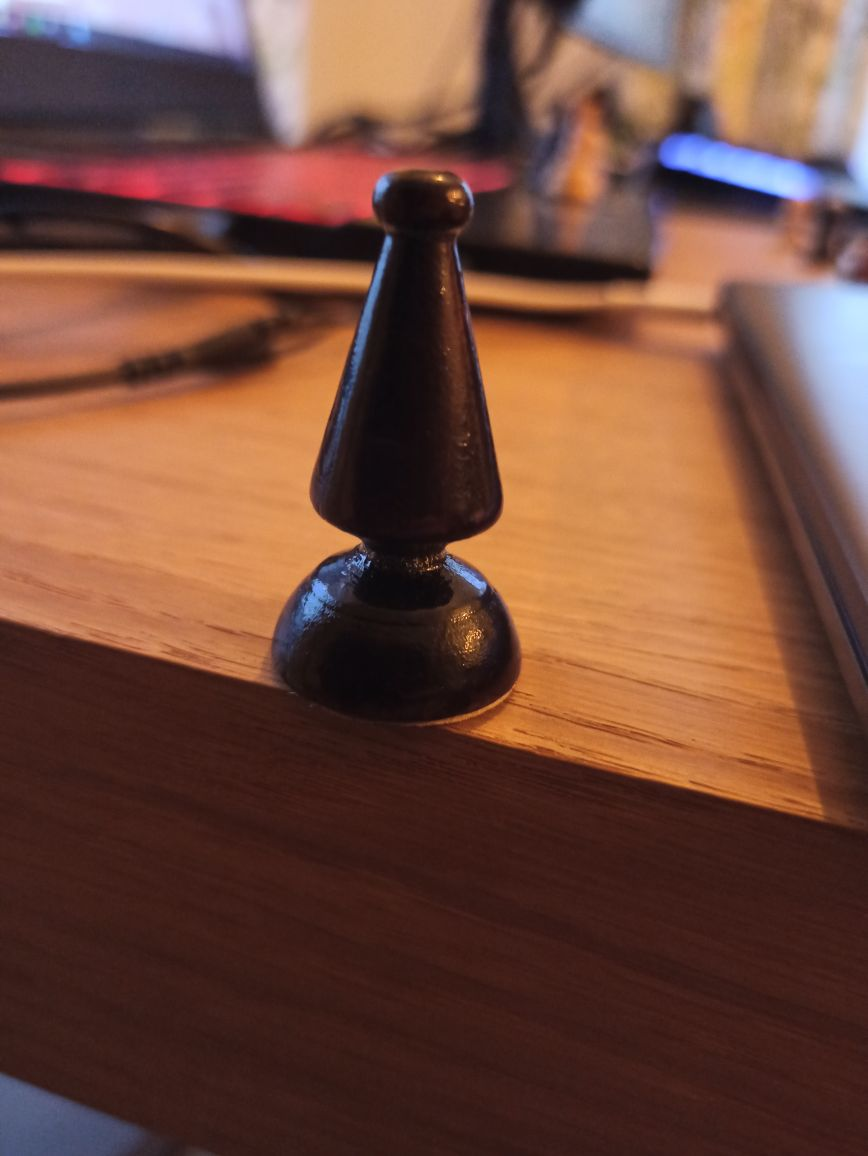bbishop: (265, 167, 522, 723)
